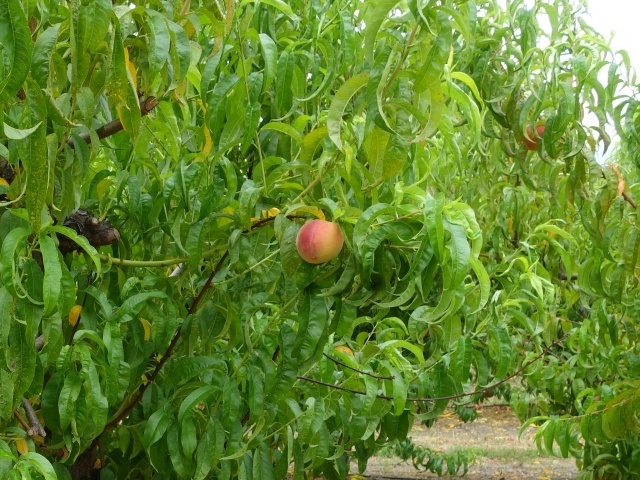peach: (292, 214, 348, 266), (520, 118, 549, 154)
